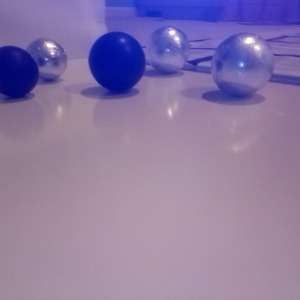alive_ball: (211, 32, 274, 96), (146, 25, 190, 72), (24, 37, 67, 80)
dead_ball: (88, 31, 145, 92), (1, 45, 39, 98)
